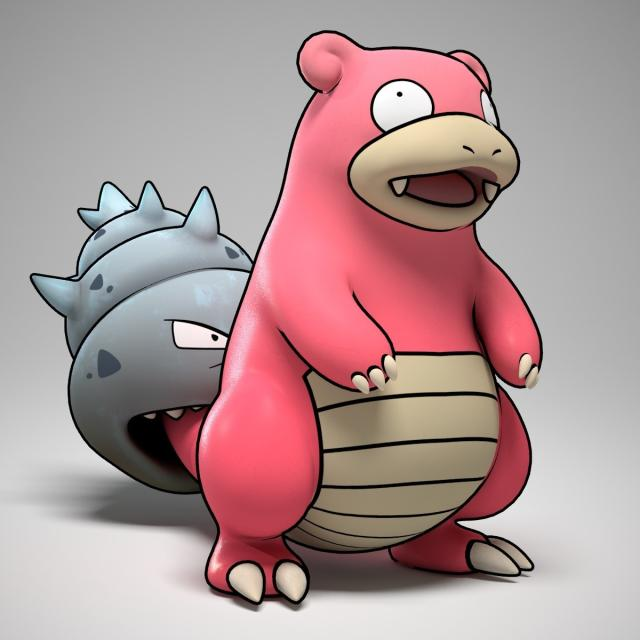Slowbro: (66, 30, 537, 610)
